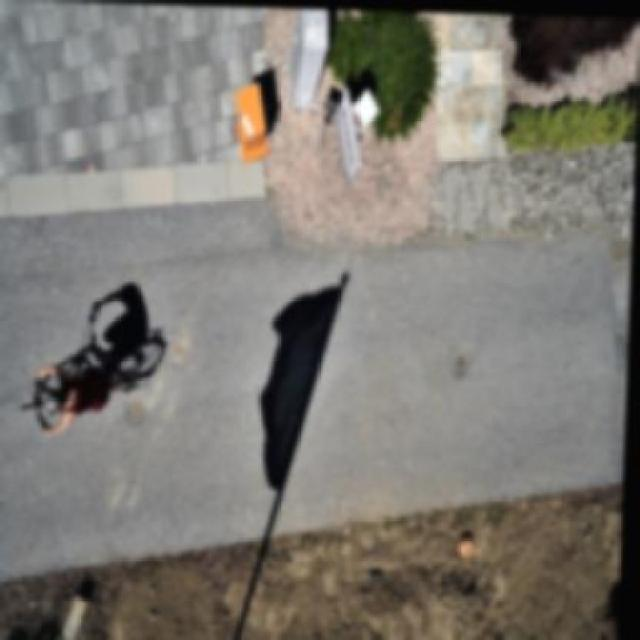Person: (35, 356, 128, 442)
